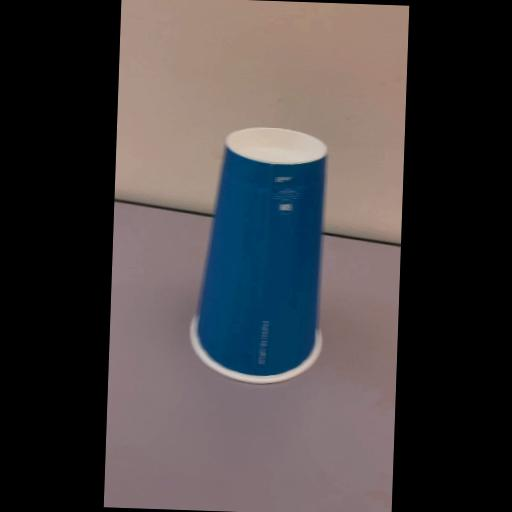lp_paper_cup: (188, 123, 332, 383)
